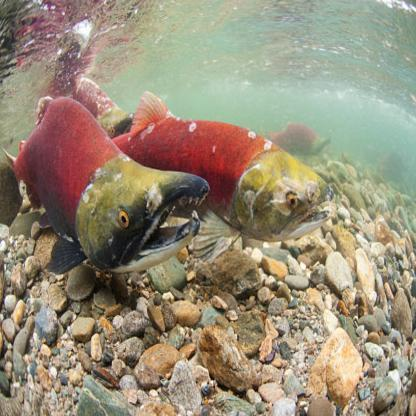sockeye: (4, 90, 205, 280), (108, 80, 331, 246)
